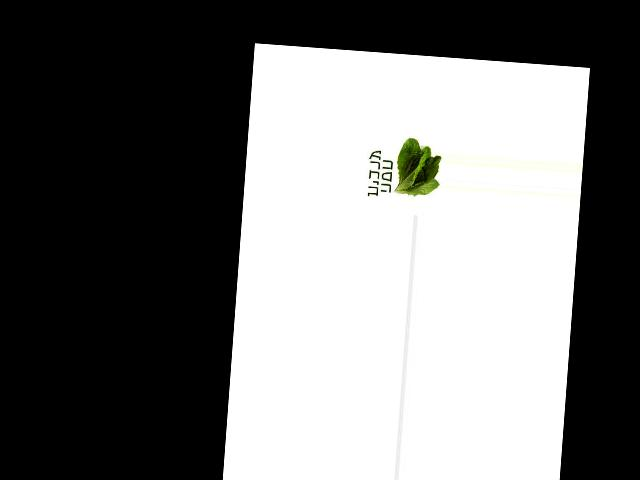lettuce: (389, 136, 442, 201)
